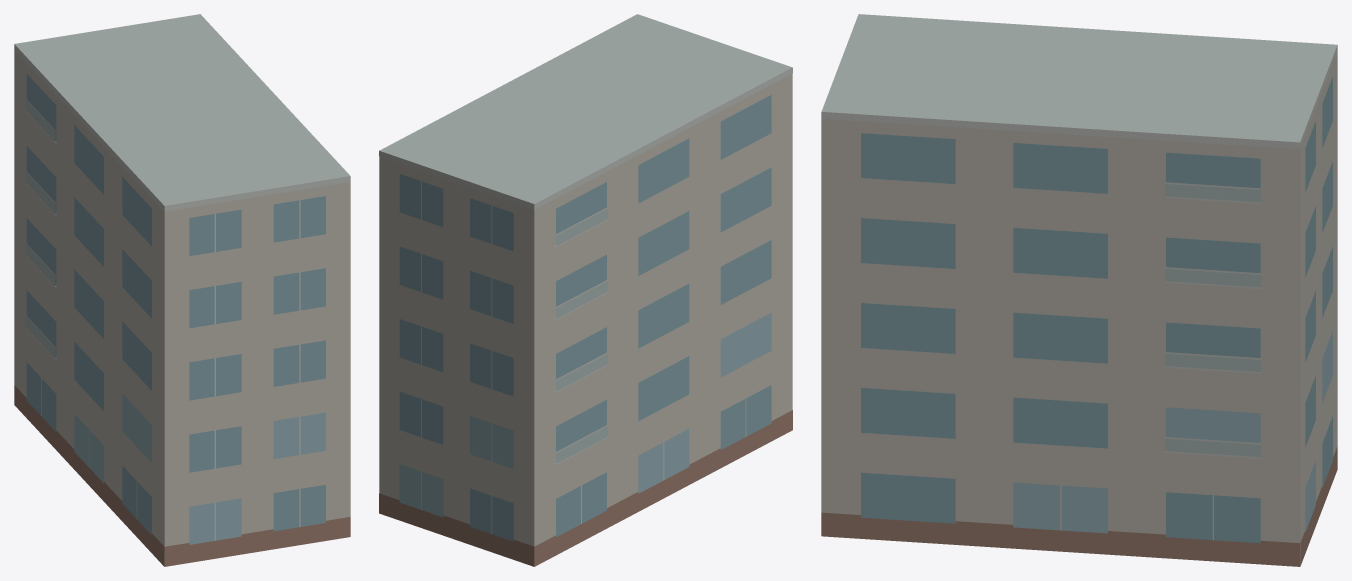
File: survey-upis-32677587.glb
3 renders of one model, left to right at view 1: azimuth 30°, elevation 25°; view 2: azimuth 150°, elevation 25°; view 3: azimuth 270°, elevation 25°, orthographic. The views are drawn at different scales.
Visible parts, largest first — view 1: survey-upis-32677587.tmp; view 2: survey-upis-32677587.tmp; view 3: survey-upis-32677587.tmp.
Boxes of the visible parts, <box> form: survey-upis-32677587.tmp: <box>14,14,350,566</box>; survey-upis-32677587.tmp: <box>379,14,792,566</box>; survey-upis-32677587.tmp: <box>821,14,1337,566</box>.
Bounding box in the file's own units: 9.9 × 15.25 × 16.82.
